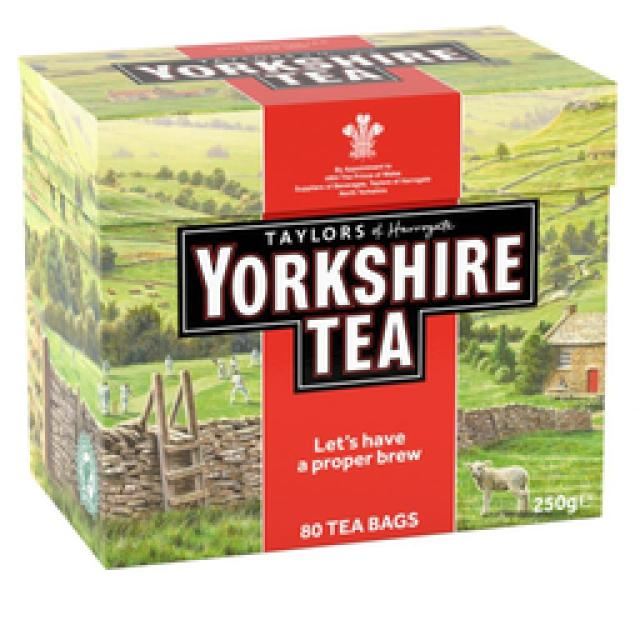tea-bags: (22, 28, 615, 562)
